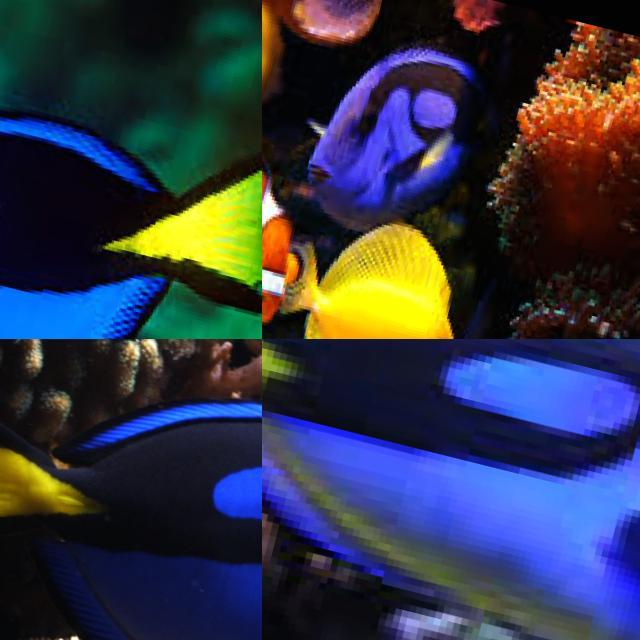BlueTang: (262, 339, 640, 640), (0, 396, 263, 635), (0, 122, 254, 339), (306, 48, 492, 227)
YellowTang: (298, 227, 453, 338)
